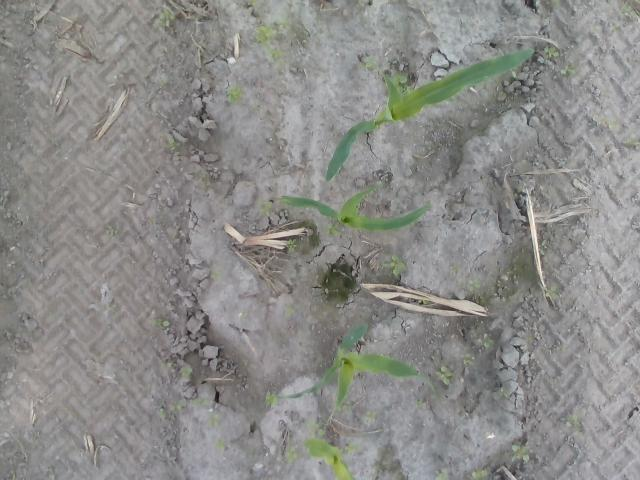Maize: (326, 49, 536, 178), (277, 322, 438, 412), (277, 188, 431, 234), (304, 437, 354, 480)
Weeds: (380, 254, 406, 275), (388, 74, 411, 92), (510, 443, 530, 461), (476, 330, 494, 350), (558, 415, 580, 430), (306, 420, 325, 436), (436, 366, 452, 385), (542, 45, 562, 59), (255, 26, 273, 40), (166, 138, 182, 153), (159, 12, 176, 26), (226, 86, 240, 102), (152, 317, 170, 329), (622, 137, 640, 149), (286, 447, 298, 463), (328, 224, 341, 238), (560, 63, 574, 76), (207, 414, 220, 428), (473, 469, 489, 480), (191, 397, 208, 407), (277, 16, 291, 28), (286, 239, 298, 253), (266, 392, 278, 406), (468, 278, 480, 291), (105, 224, 118, 236), (362, 57, 376, 68), (180, 366, 192, 378), (546, 285, 557, 298), (538, 239, 546, 256), (365, 411, 377, 422), (348, 441, 360, 452), (270, 49, 283, 57), (460, 356, 470, 366), (436, 473, 449, 480), (174, 404, 183, 414), (211, 271, 221, 280), (414, 399, 424, 408), (158, 406, 164, 418)
